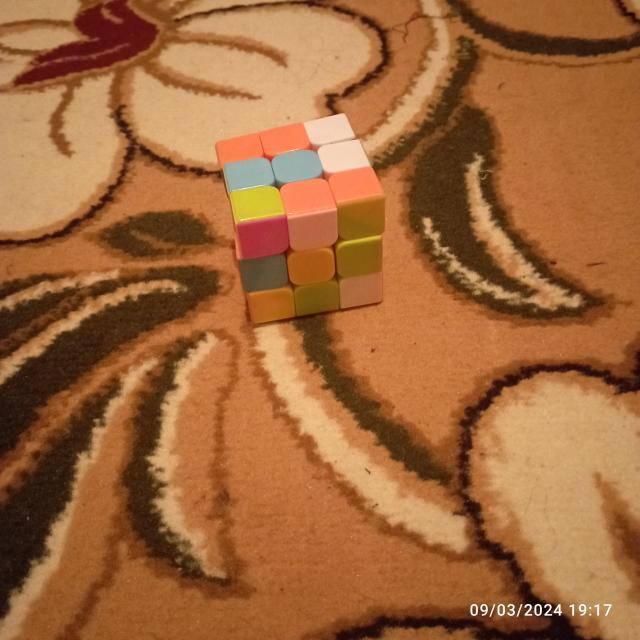Rub: (211, 110, 391, 326)
